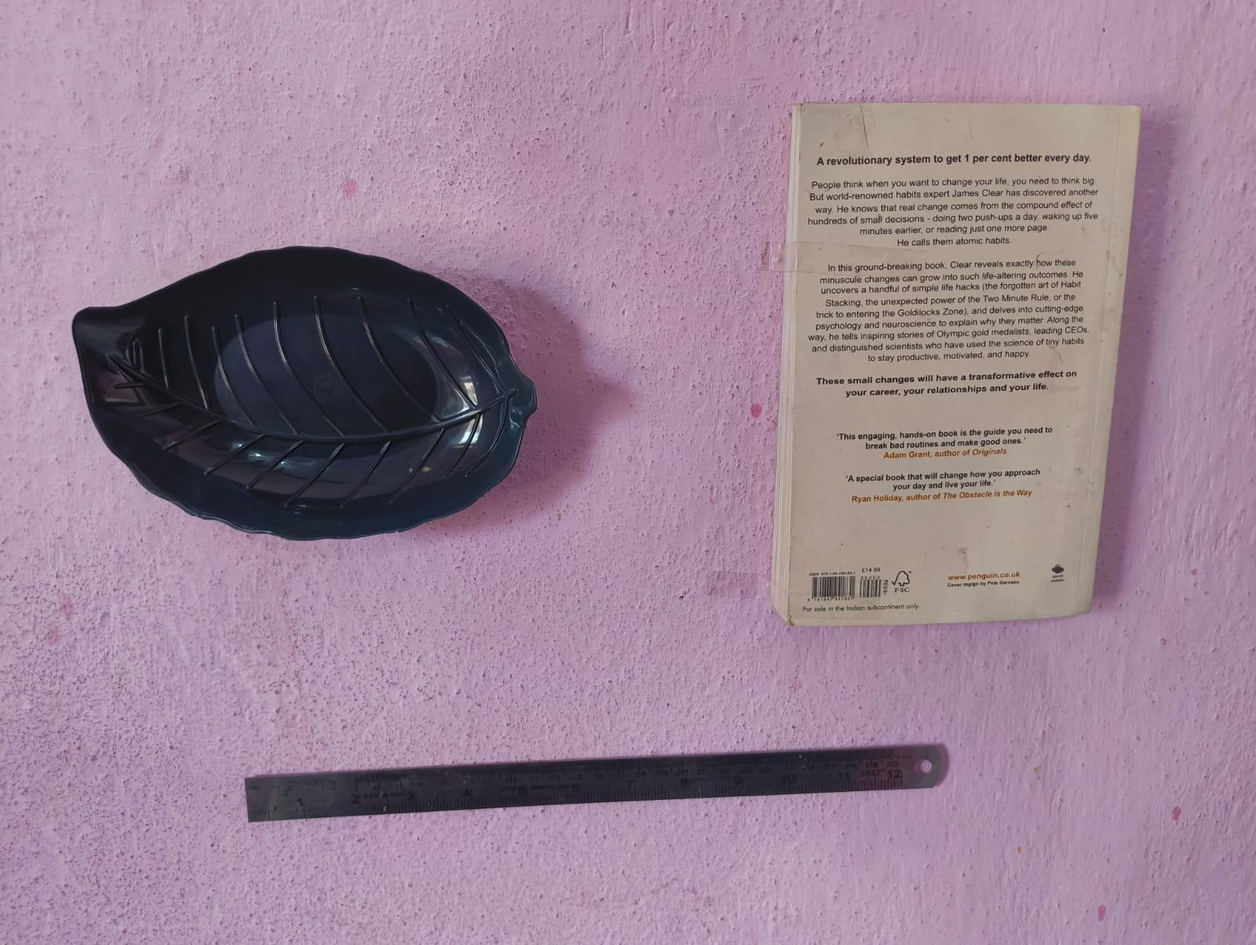Book: (763, 84, 1149, 636)
plate: (69, 236, 550, 548)
scale: (239, 741, 973, 830)
